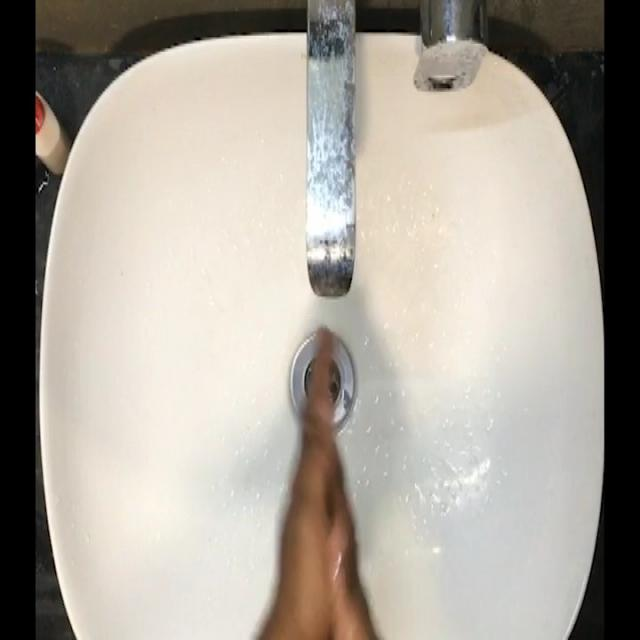step_1: (257, 310, 389, 635)
